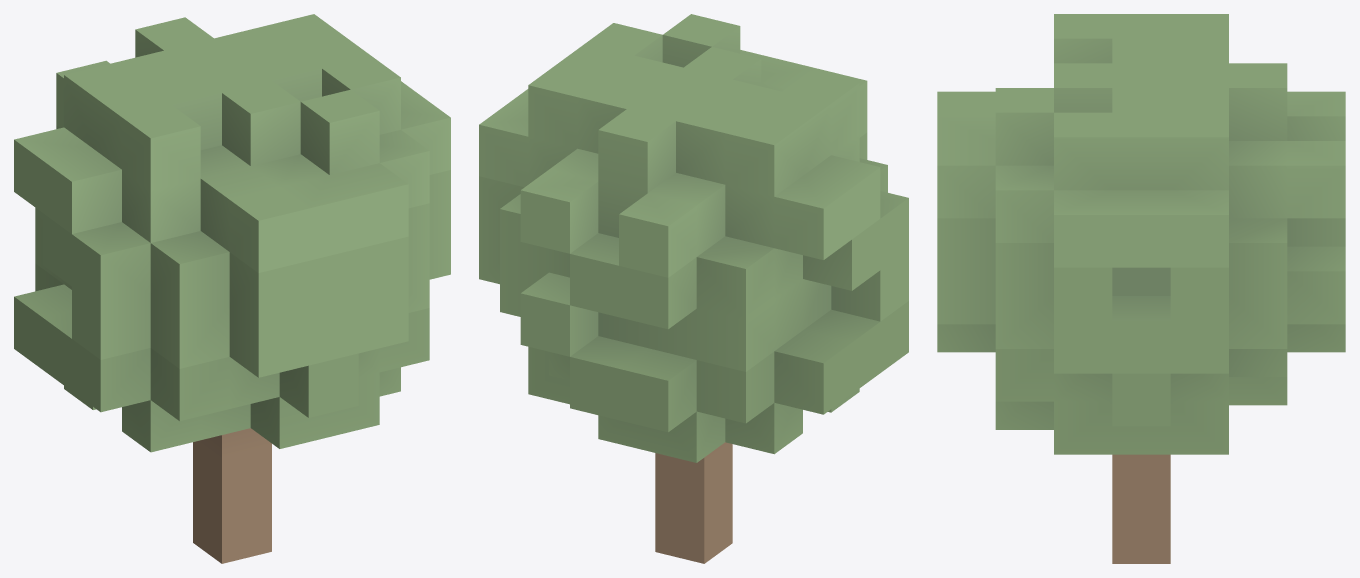
File: decor_tree_a.glb
3 views of the same model, side by side, from view 1: azimuth 30°, elevation 25°; view 2: azimuth 150°, elevation 25°; view 3: azimuth 270°, elevation 25° (orthographic). The views are drawn at different scales.
Visible parts, largest first — view 1: decor_tree_a; view 2: decor_tree_a; view 3: decor_tree_a.
Part boxes in pixels (box(x1,y1,x2,y2)): decor_tree_a: box(14, 14, 450, 563); decor_tree_a: box(479, 14, 908, 563); decor_tree_a: box(937, 14, 1345, 563).
Bounding box in the file's own units: 0.875 × 1.12 × 0.875.
